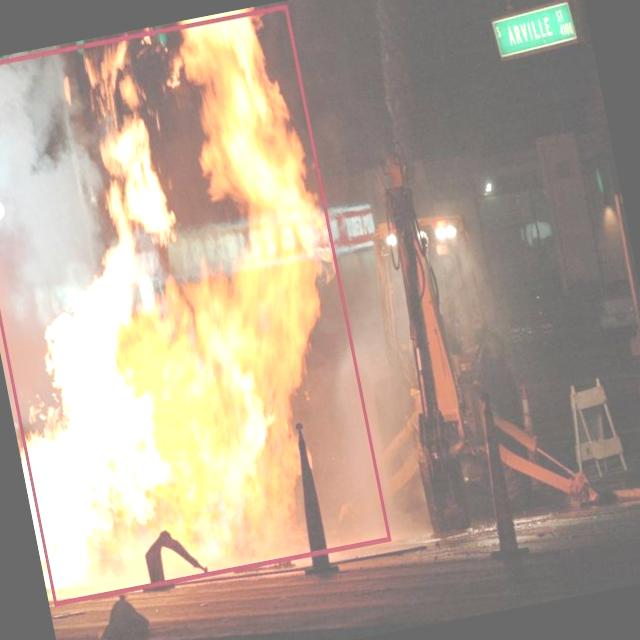fire: (0, 4, 390, 605)
